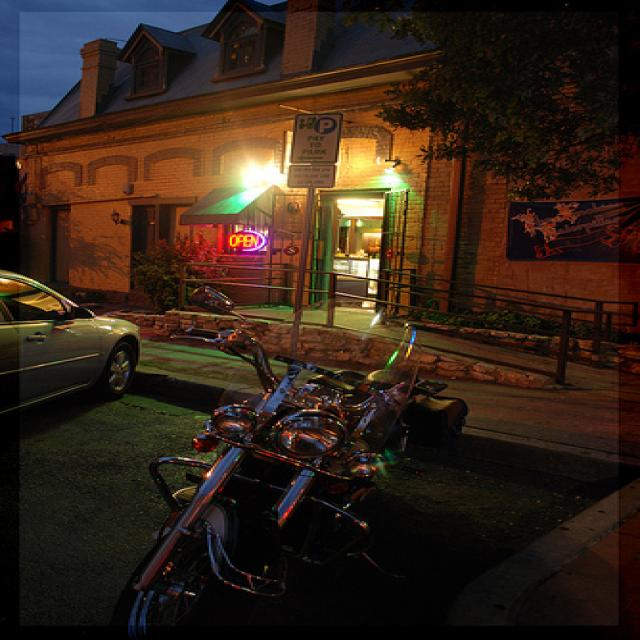Motorbike: (113, 278, 473, 637)
car: (0, 252, 149, 439)
